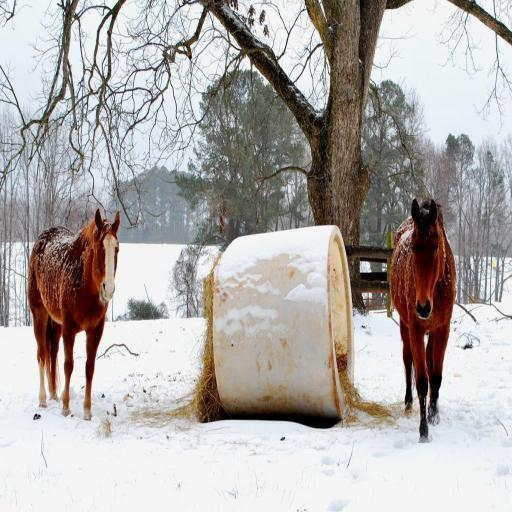horse: (26, 203, 120, 418), (386, 196, 456, 444)
